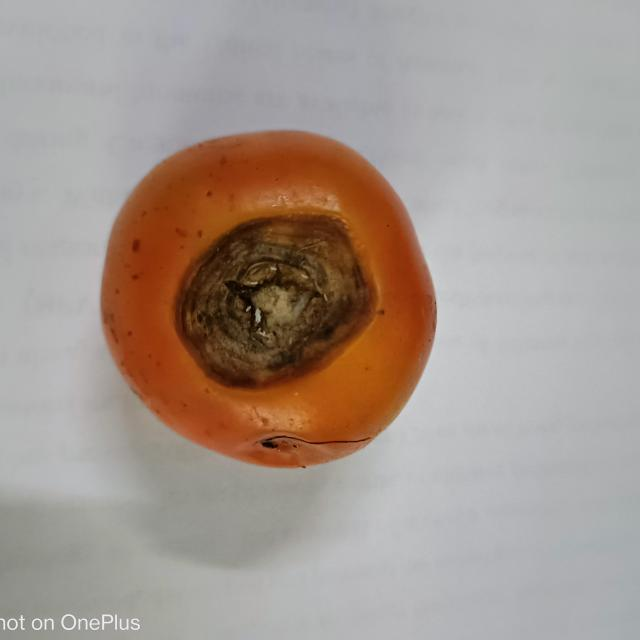Anthrocnose: (176, 209, 376, 385)
